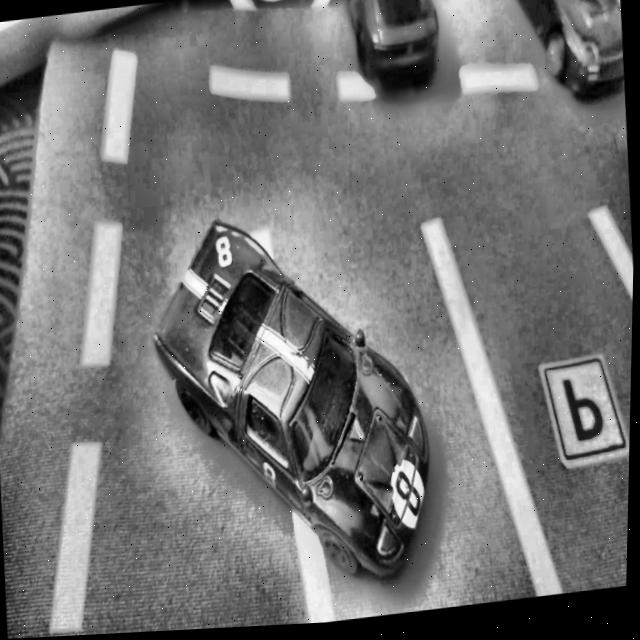car: (143, 198, 446, 610), (478, 0, 628, 125), (316, 0, 447, 102)
